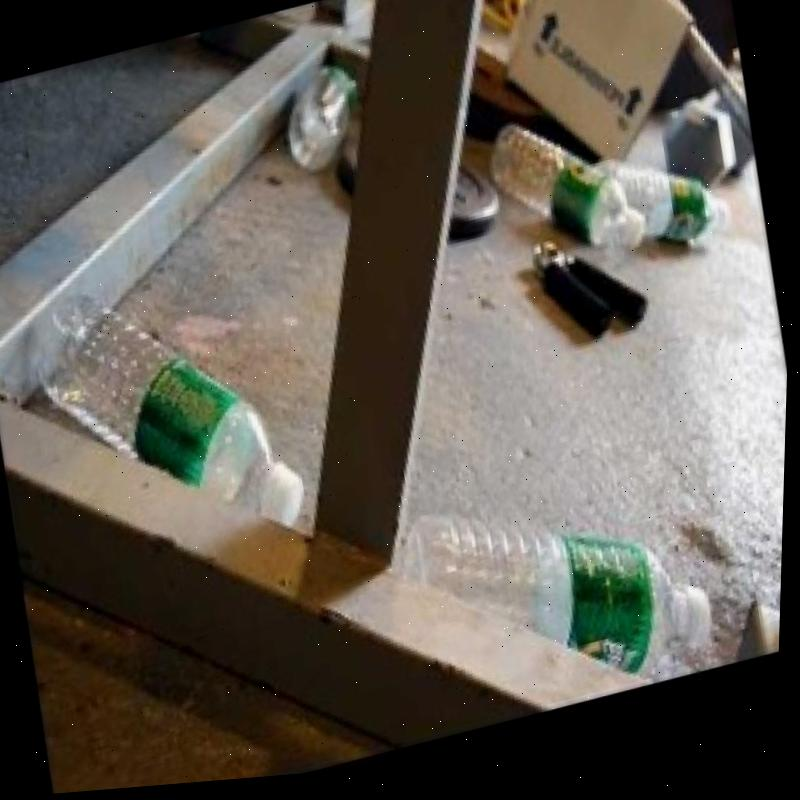botella: (18, 241, 317, 592), (397, 459, 726, 738), (482, 106, 655, 294), (598, 145, 736, 276), (272, 63, 379, 190)
